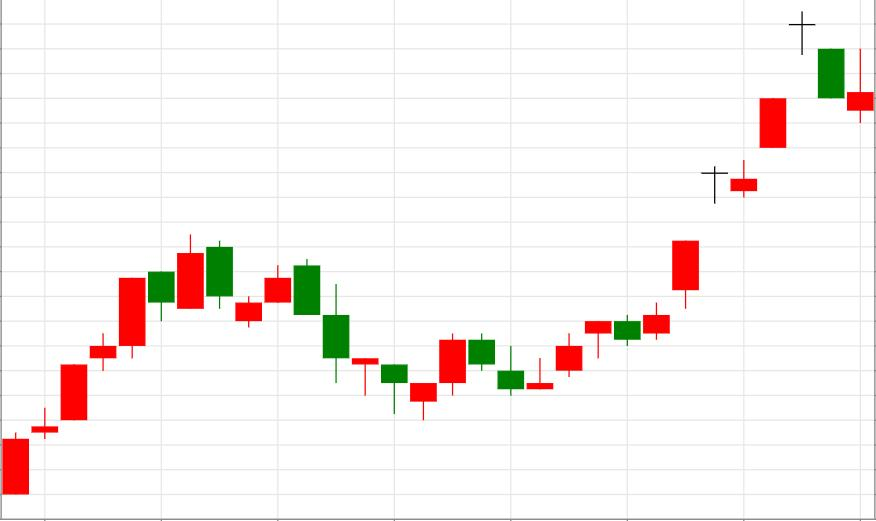evening_star_fall: (527, 11, 845, 389)
